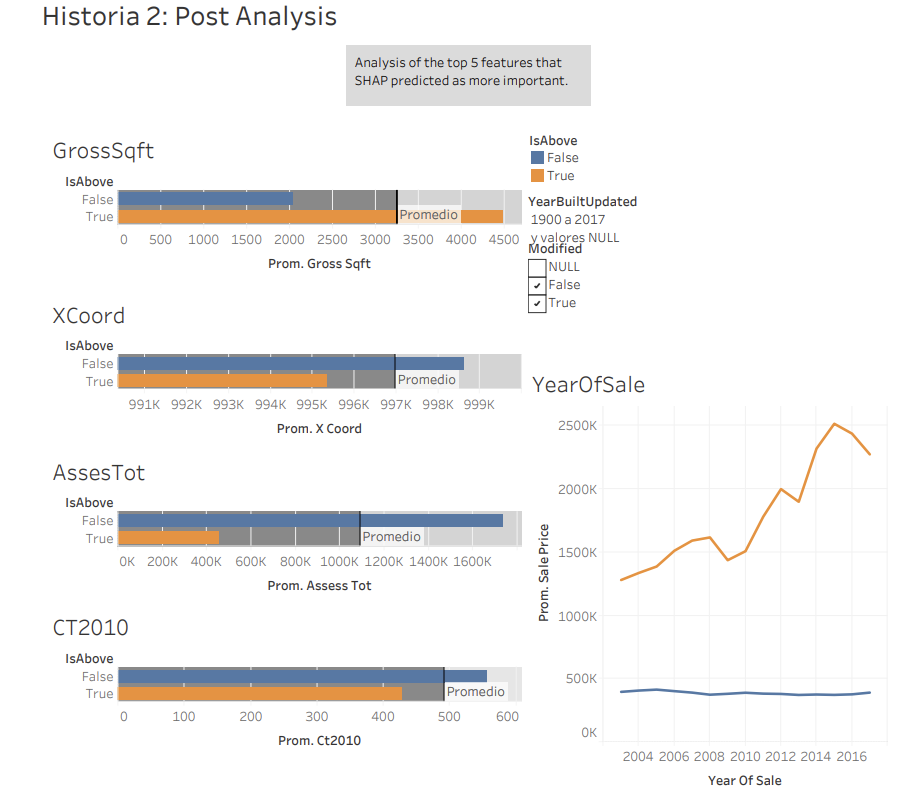

The dashboard page shown, as its layout file describes it:
{"tool":"tableau","page":{"name":"Dashboard 2: PostAnalysis","canvas":[1000,800],"ordinal":1},"visuals":[{"type":"worksheet","title":"GrossSqft","mark":"Automatic","rows":["Calculation_1124492570384846850"],"cols":["gross_sqft"],"box":[8,8,558,192]},{"type":"legend","title":"GrossSqft","param":"[federated.16p3oot0qzsxwa1fckpwx1d4f2nt].[none:Calculation_1124492570384846850:n","box":[566,8,426,72]},{"type":"filter","title":"CT2010","param":"[federated.16p3oot0qzsxwa1fckpwx1d4f2nt].[none:Calculation_1124492570445541379:q","box":[566,80,426,55]},{"type":"filter","title":"CT2010","param":"[federated.16p3oot0qzsxwa1fckpwx1d4f2nt].[none:Calculation_1124492570461945866:n","box":[566,135,426,145]},{"type":"worksheet","title":"XCoord","mark":"Automatic","rows":["Calculation_1124492570384846850"],"cols":["XCoord"],"box":[8,200,558,183]},{"type":"worksheet","title":"YearOfSale","mark":"Automatic","rows":["sale_price"],"cols":["year_of_sale"],"box":[566,280,426,512]},{"type":"worksheet","title":"AssesTot","mark":"Automatic","rows":["Calculation_1124492570384846850"],"cols":["AssessTot"],"box":[8,383,558,181]},{"type":"worksheet","title":"CT2010","mark":"Automatic","rows":["Calculation_1124492570384846850"],"cols":["CT2010"],"box":[8,564,558,228]}]}

Visuals, with their boxes on the page's 1000x800 design canvas (x1, y1, x2, y2). These are canvas units, not pixel positions in the 900x795 screenshot, which may show the page scaled, cropped or inside an application window:
"GrossSqft" worksheet: {"left": 8, "top": 8, "right": 566, "bottom": 200}
"GrossSqft" legend: {"left": 566, "top": 8, "right": 992, "bottom": 80}
"CT2010" filter: {"left": 566, "top": 80, "right": 992, "bottom": 135}
"CT2010" filter: {"left": 566, "top": 135, "right": 992, "bottom": 280}
"XCoord" worksheet: {"left": 8, "top": 200, "right": 566, "bottom": 383}
"YearOfSale" worksheet: {"left": 566, "top": 280, "right": 992, "bottom": 792}
"AssesTot" worksheet: {"left": 8, "top": 383, "right": 566, "bottom": 564}
"CT2010" worksheet: {"left": 8, "top": 564, "right": 566, "bottom": 792}
